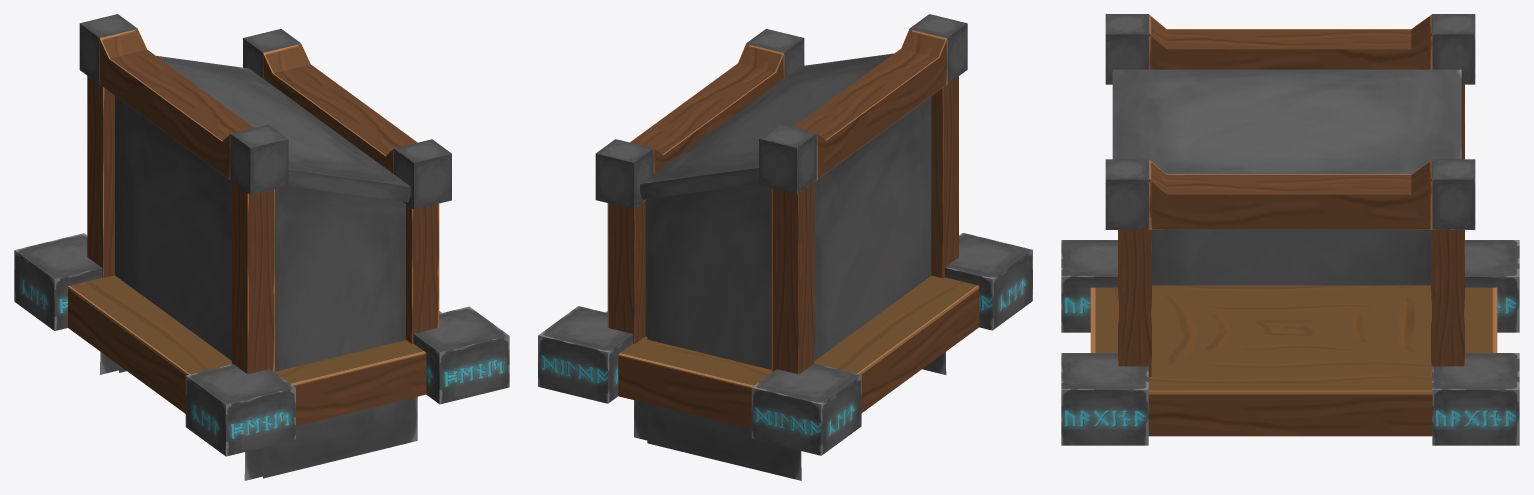
File: lumber_1.FBX
3 views of the same model, side by side, from view 1: azimuth 30°, elevation 25°; view 2: azimuth 150°, elevation 25°; view 3: azimuth 270°, elevation 25° (orthographic). The views are drawn at different scales.
Visible parts, largest first — view 1: Box525; view 2: Box525; view 3: Box525.
Part boxes in pixels (x1,y1,x2,y2): Box525: [14, 14, 509, 480]; Box525: [538, 14, 1032, 480]; Box525: [1061, 14, 1519, 445].
Bounding box in the file's own units: 44.79 × 51.97 × 57.92.
